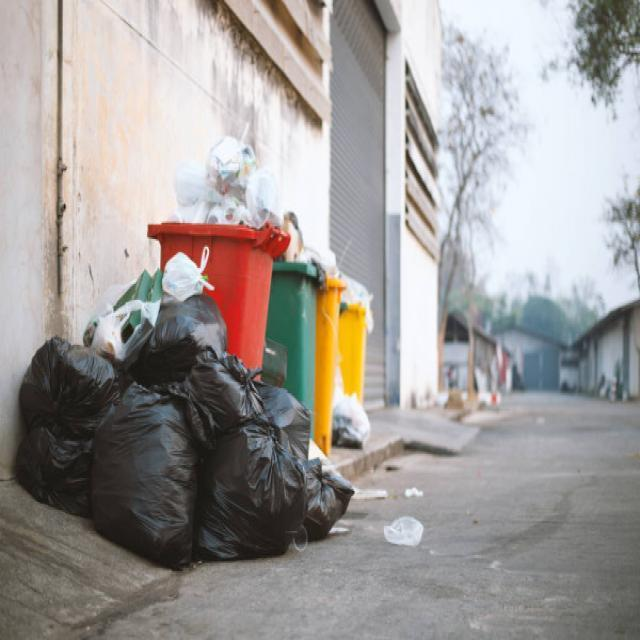Trashbag: (96, 375, 197, 558), (192, 434, 308, 561), (14, 344, 113, 430), (20, 420, 103, 520), (131, 297, 221, 364), (289, 449, 352, 543), (190, 346, 254, 438), (254, 378, 320, 454)
